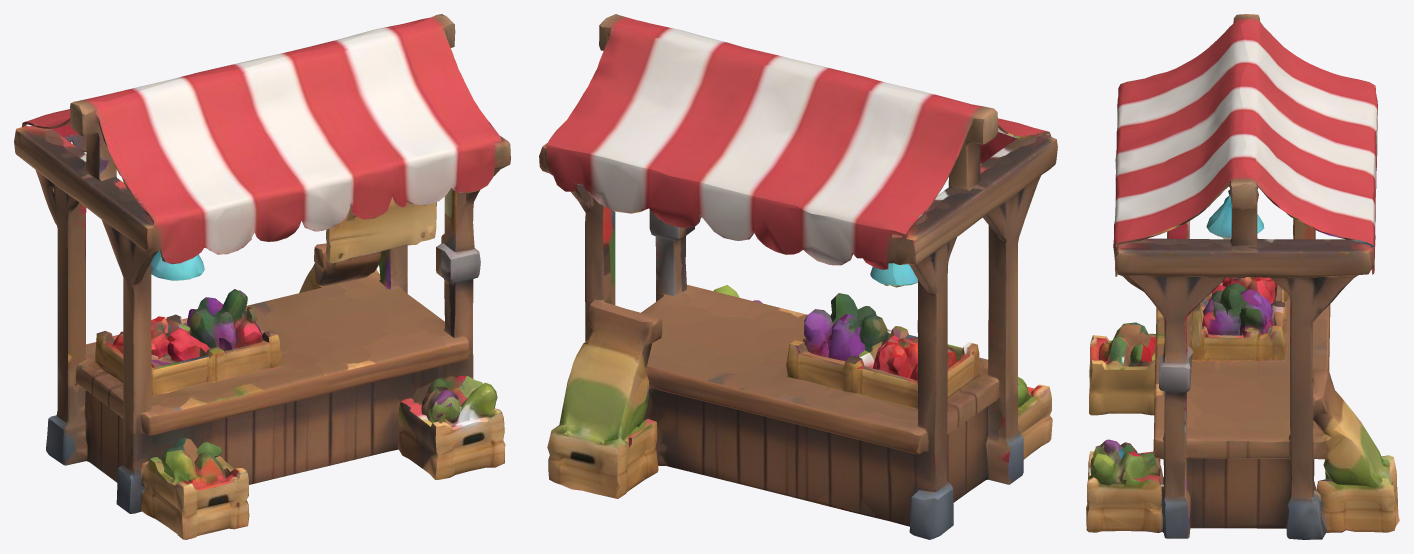
File: market_stall.glb
The picture shows the model from 3 angles, left to right: view 1: azimuth 30°, elevation 25°; view 2: azimuth 150°, elevation 25°; view 3: azimuth 270°, elevation 25°; orthographic projection. The views are drawn at different scales.
Visible parts, largest first — view 1: market_stall_s51; view 2: market_stall_s51; view 3: market_stall_s51.
Boxes of the visible parts, box(x1,y1,x2,y2) form: market_stall_s51: box(14, 14, 510, 539); market_stall_s51: box(539, 14, 1057, 539); market_stall_s51: box(1086, 14, 1399, 539).
Size of the model in its own units: 1 by 0.9799 by 0.7688.
1 material, 1 textured.
